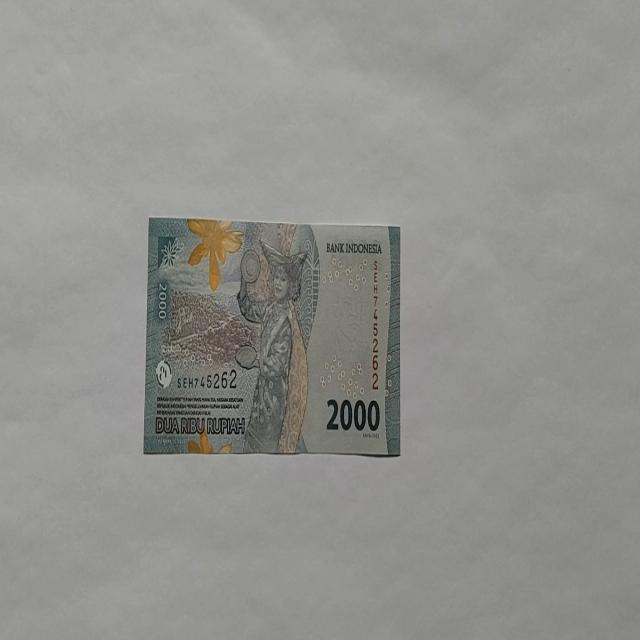dua ribu rupiah: (142, 217, 402, 457), (235, 238, 310, 454), (186, 216, 244, 292)
